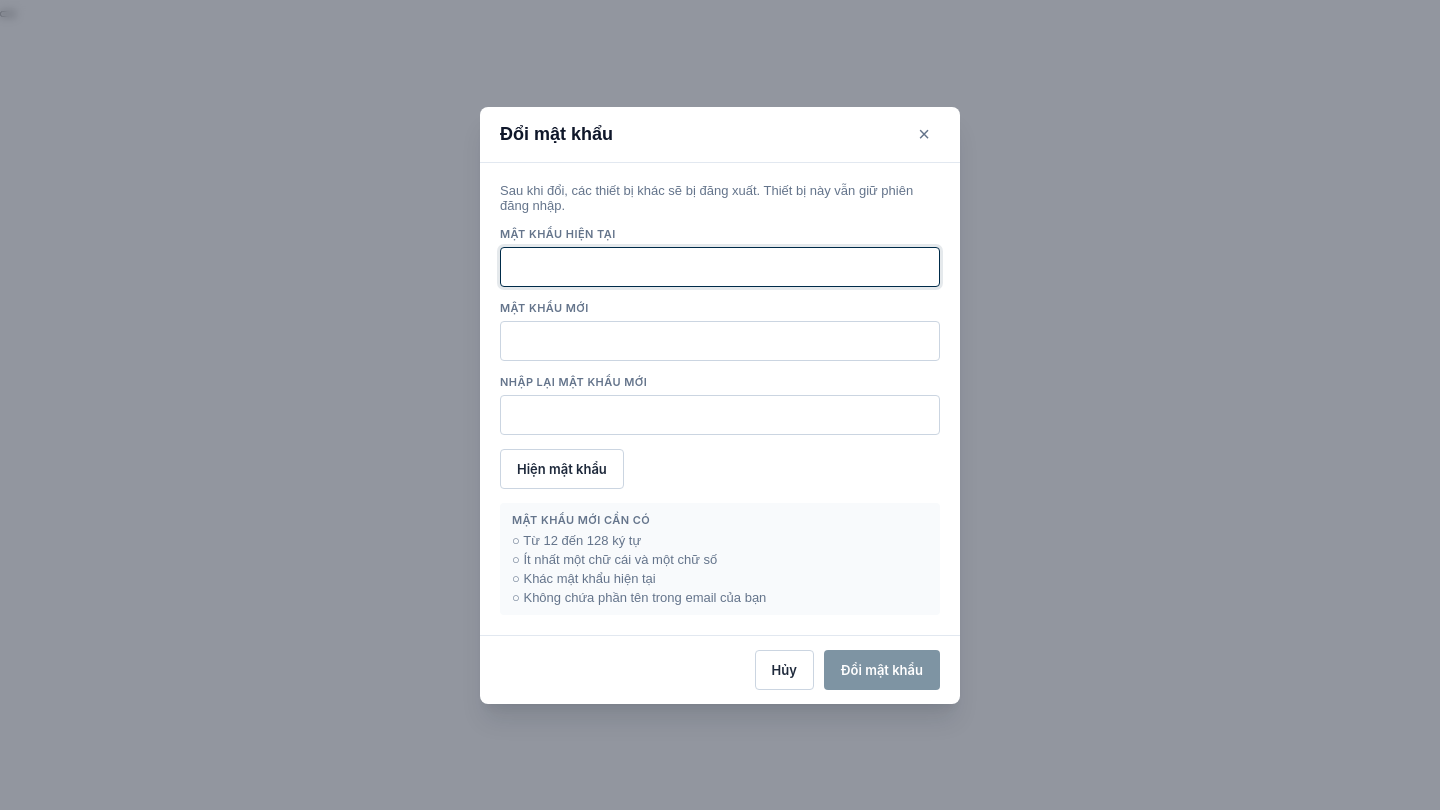
Scenario: ChangePasswordDialogComponent › shows the locked message for 403, the policy message for other 400s and a generic one otherwise
Type "Current-Password-1" into the password field with id "current-password" at (720, 266), box [500,246,940,286]
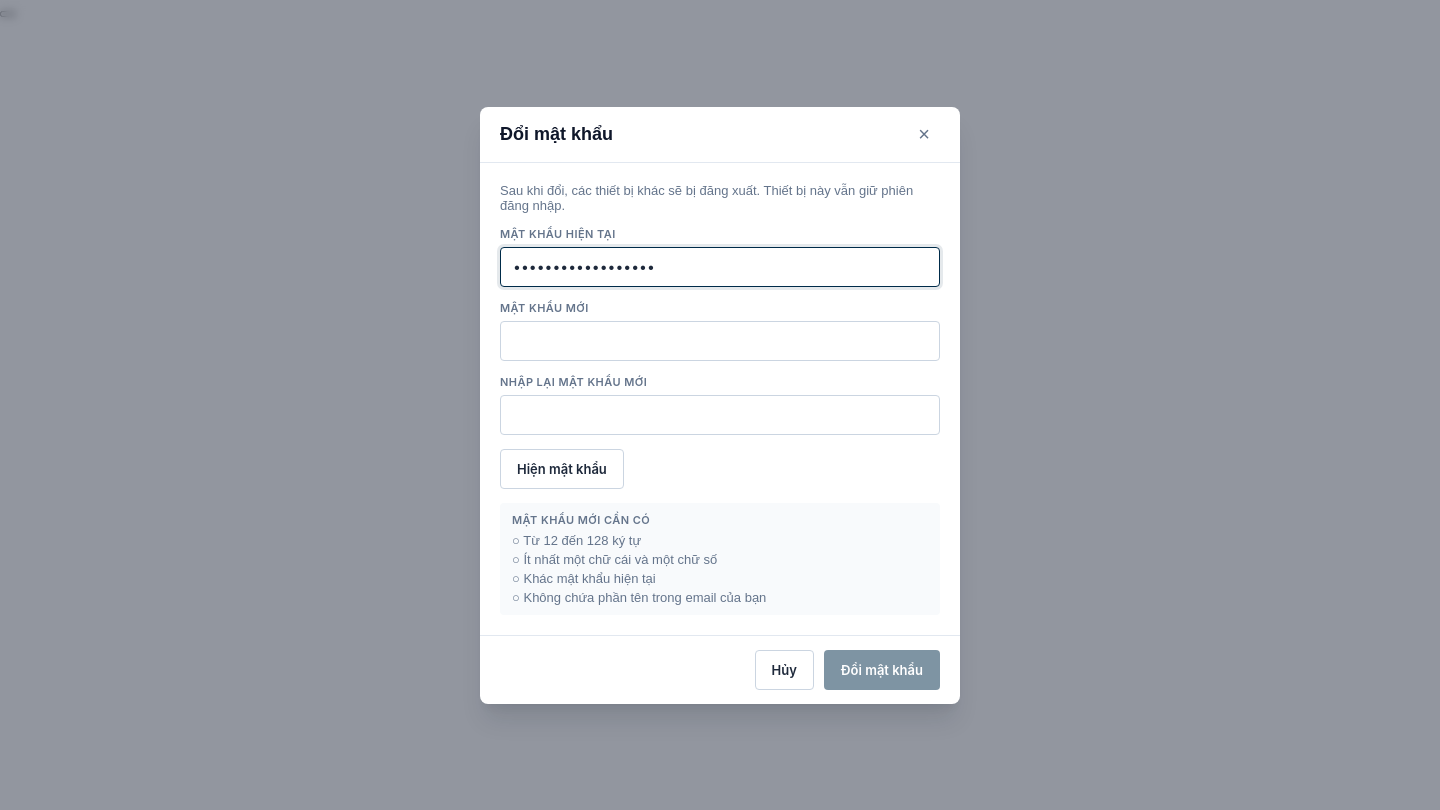
Type "Brand-New-Password-2" into the password field with id "new-password" at (720, 340), box [500,320,940,360]
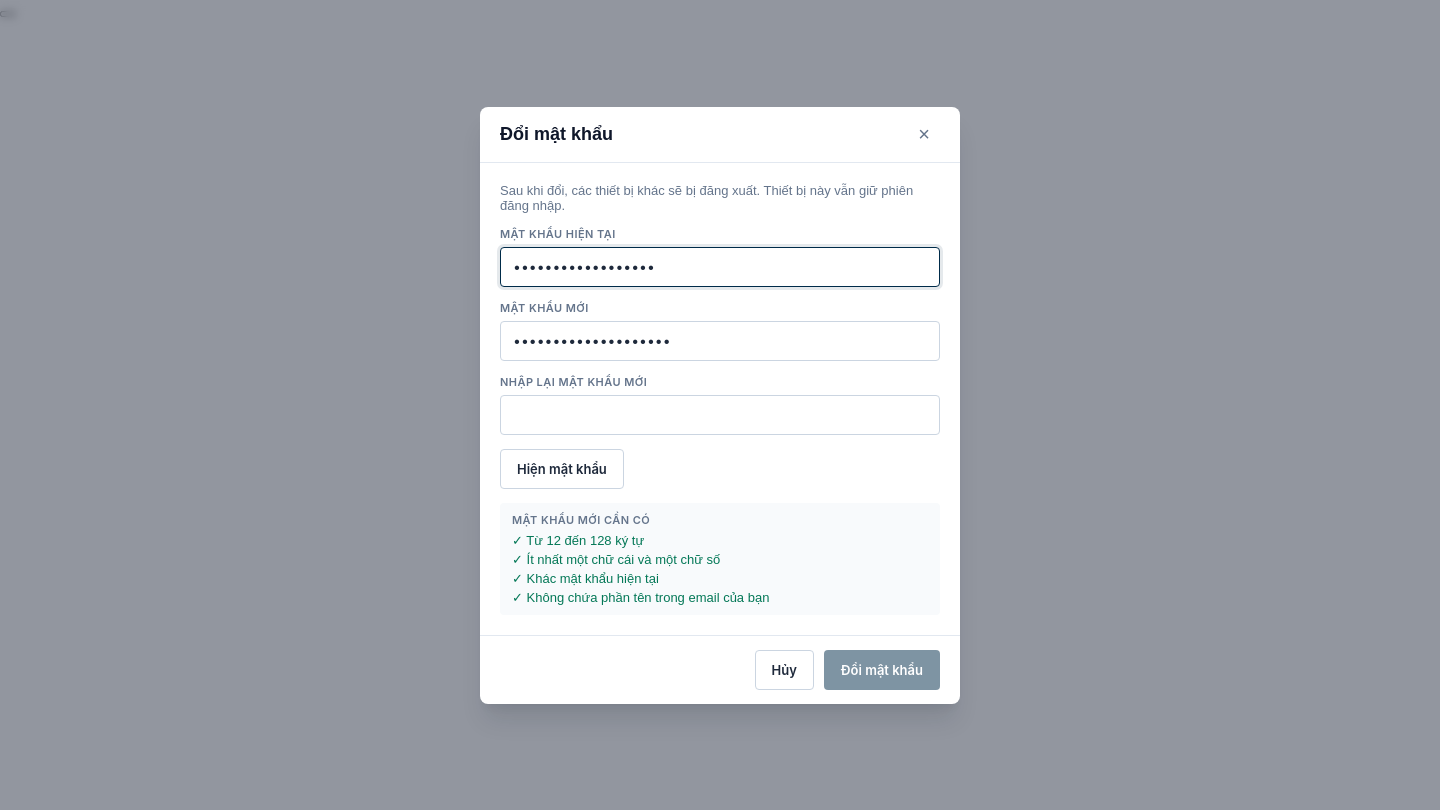
Type "Brand-New-Password-2" into the password field with id "confirm-password" at (720, 414), box [500,394,940,434]
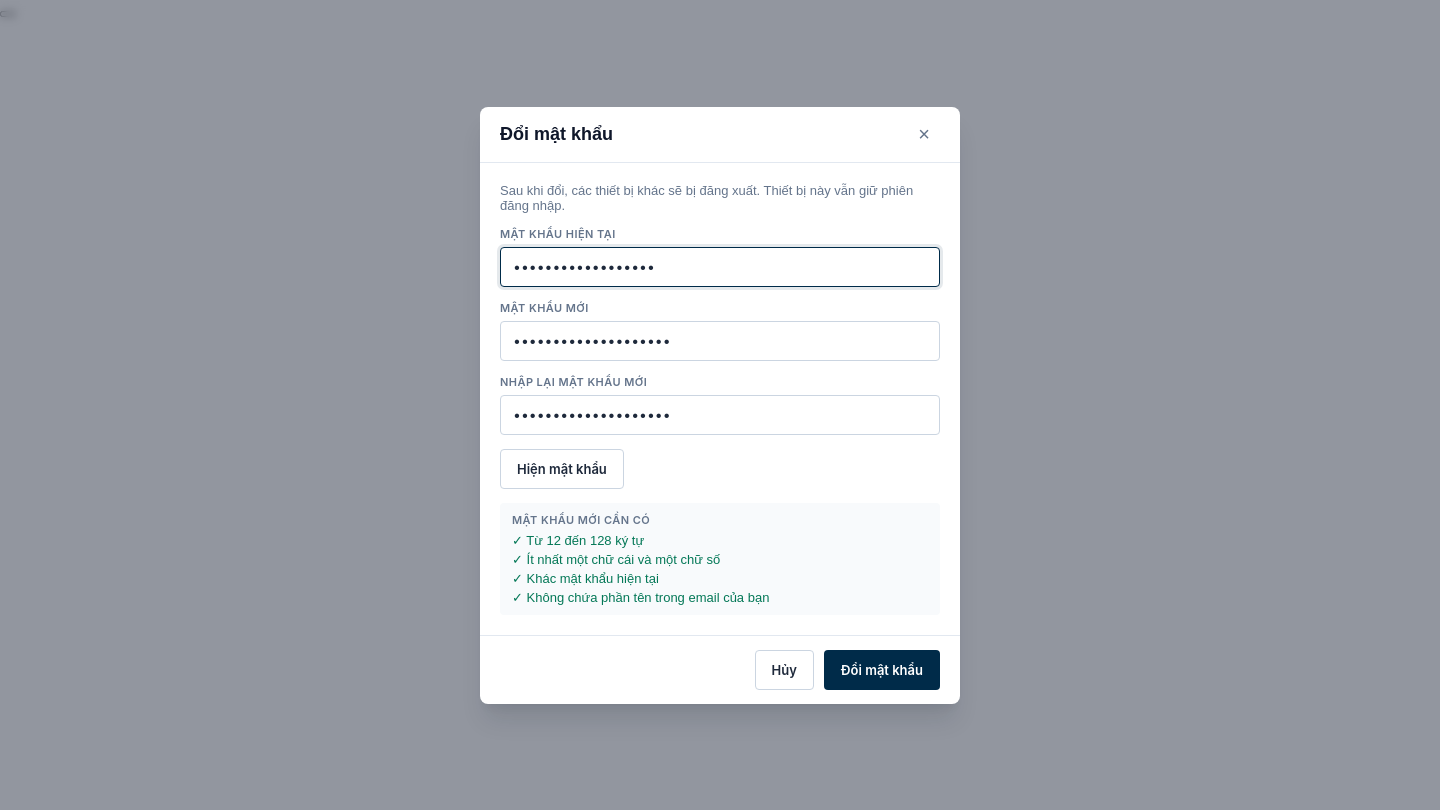
Click the submit button at (882, 670), box [824,650,940,690]
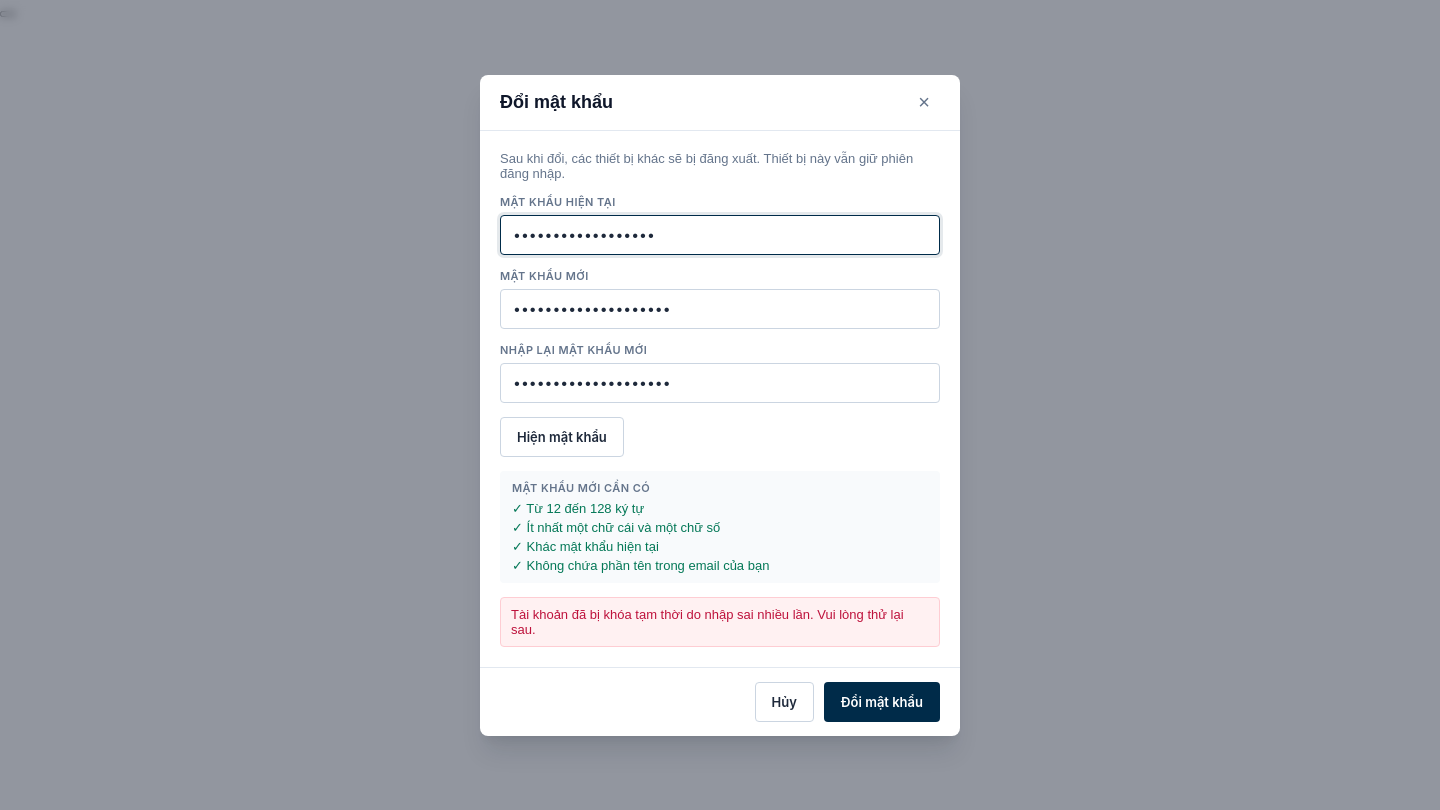
Now the text "khóa tạm thời" is shown, box [511,606,904,636]
Click the submit button at (882, 702), box [824,682,940,722]
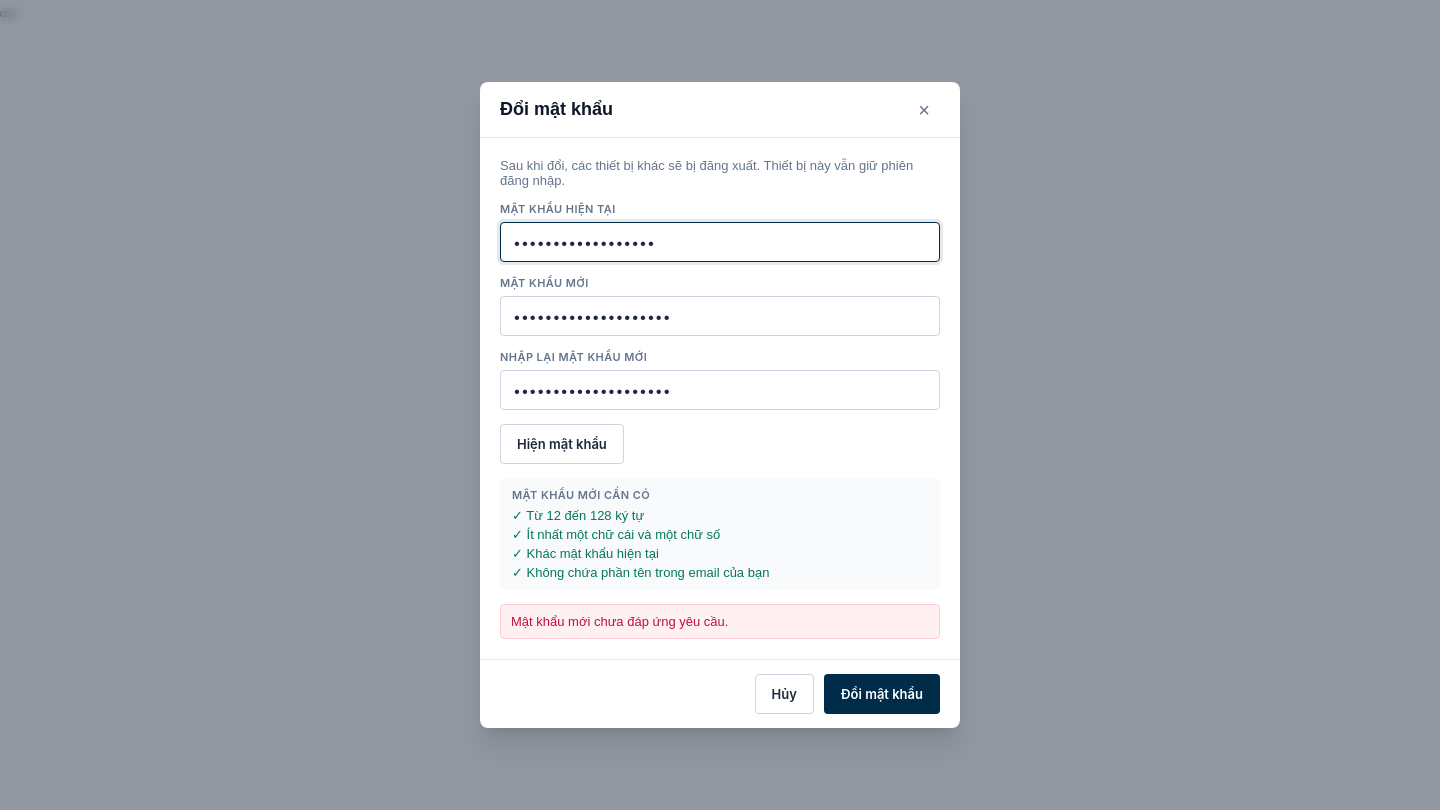
Now the text "chưa đáp ứng yêu cầu" is shown, box [511,614,728,629]
Click the submit button at (882, 694), box [824,674,940,714]
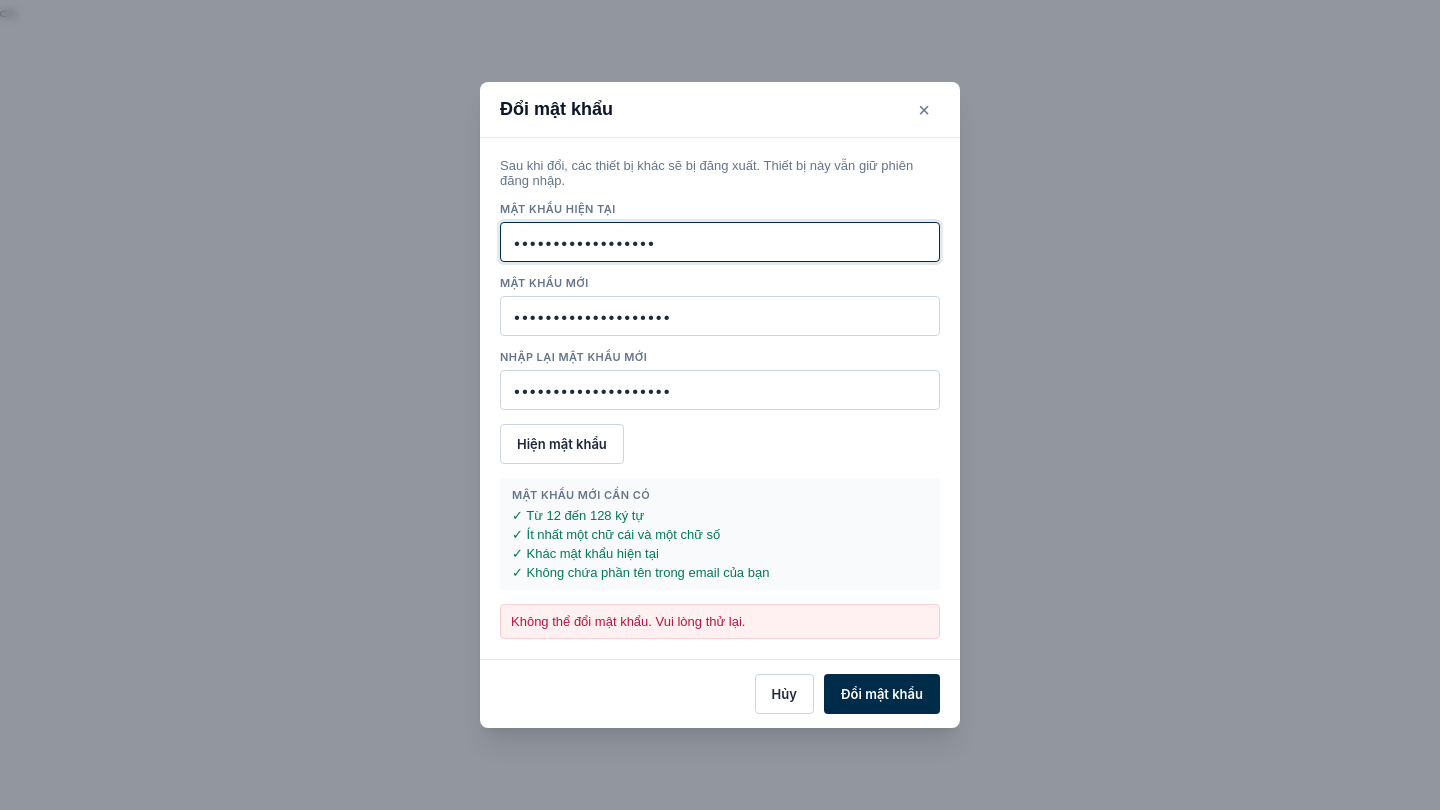
Now the text "Không thể đổi mật khẩu" is shown, box [511,614,745,629]
